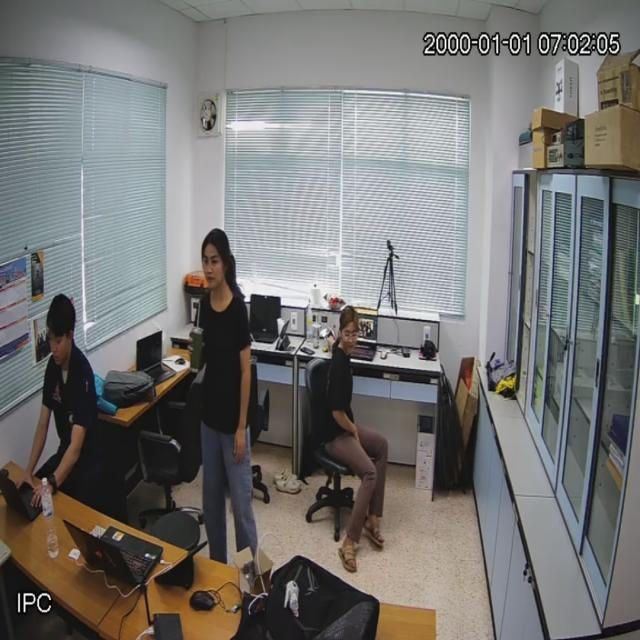normal: (190, 227, 262, 558), (306, 304, 384, 568), (12, 294, 104, 514)
